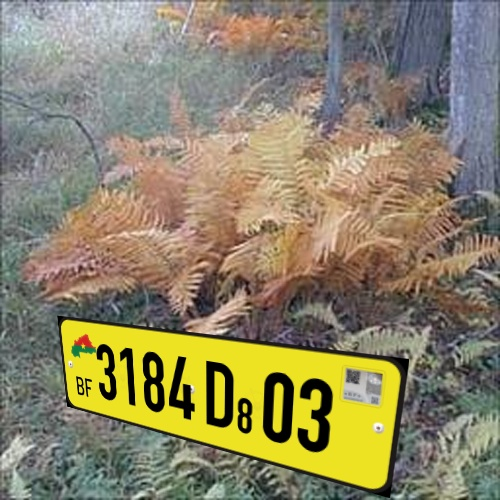plate: (40, 304, 415, 500)
